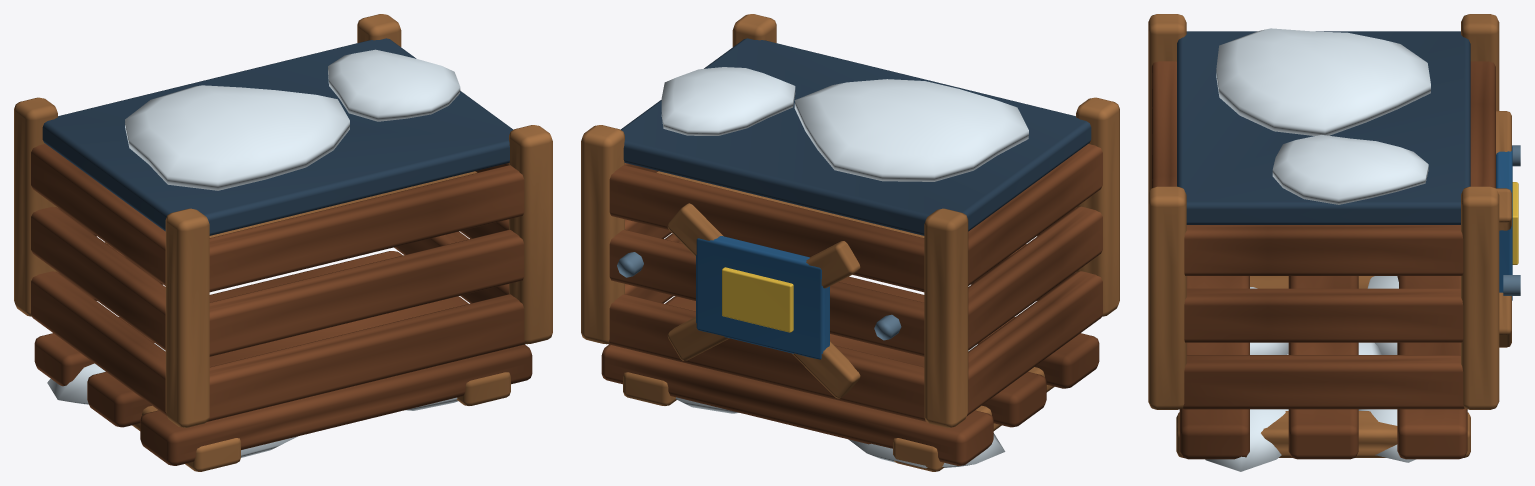
File: cargo_crate.glb
The picture shows the model from 3 angles, left to right: view 1: azimuth 30°, elevation 25°; view 2: azimuth 150°, elevation 25°; view 3: azimuth 270°, elevation 25°; orthographic projection. The views are drawn at different scales.
Visible parts, largest first — view 1: cargo_crate; view 2: cargo_crate; view 3: cargo_crate.
Part boxes in pixels (bbox=[...]): cargo_crate: bbox=[14, 14, 552, 471]; cargo_crate: bbox=[581, 14, 1119, 471]; cargo_crate: bbox=[1148, 14, 1520, 471].
Size of the model in its own units: 1.43 by 1.07 by 1.17.
